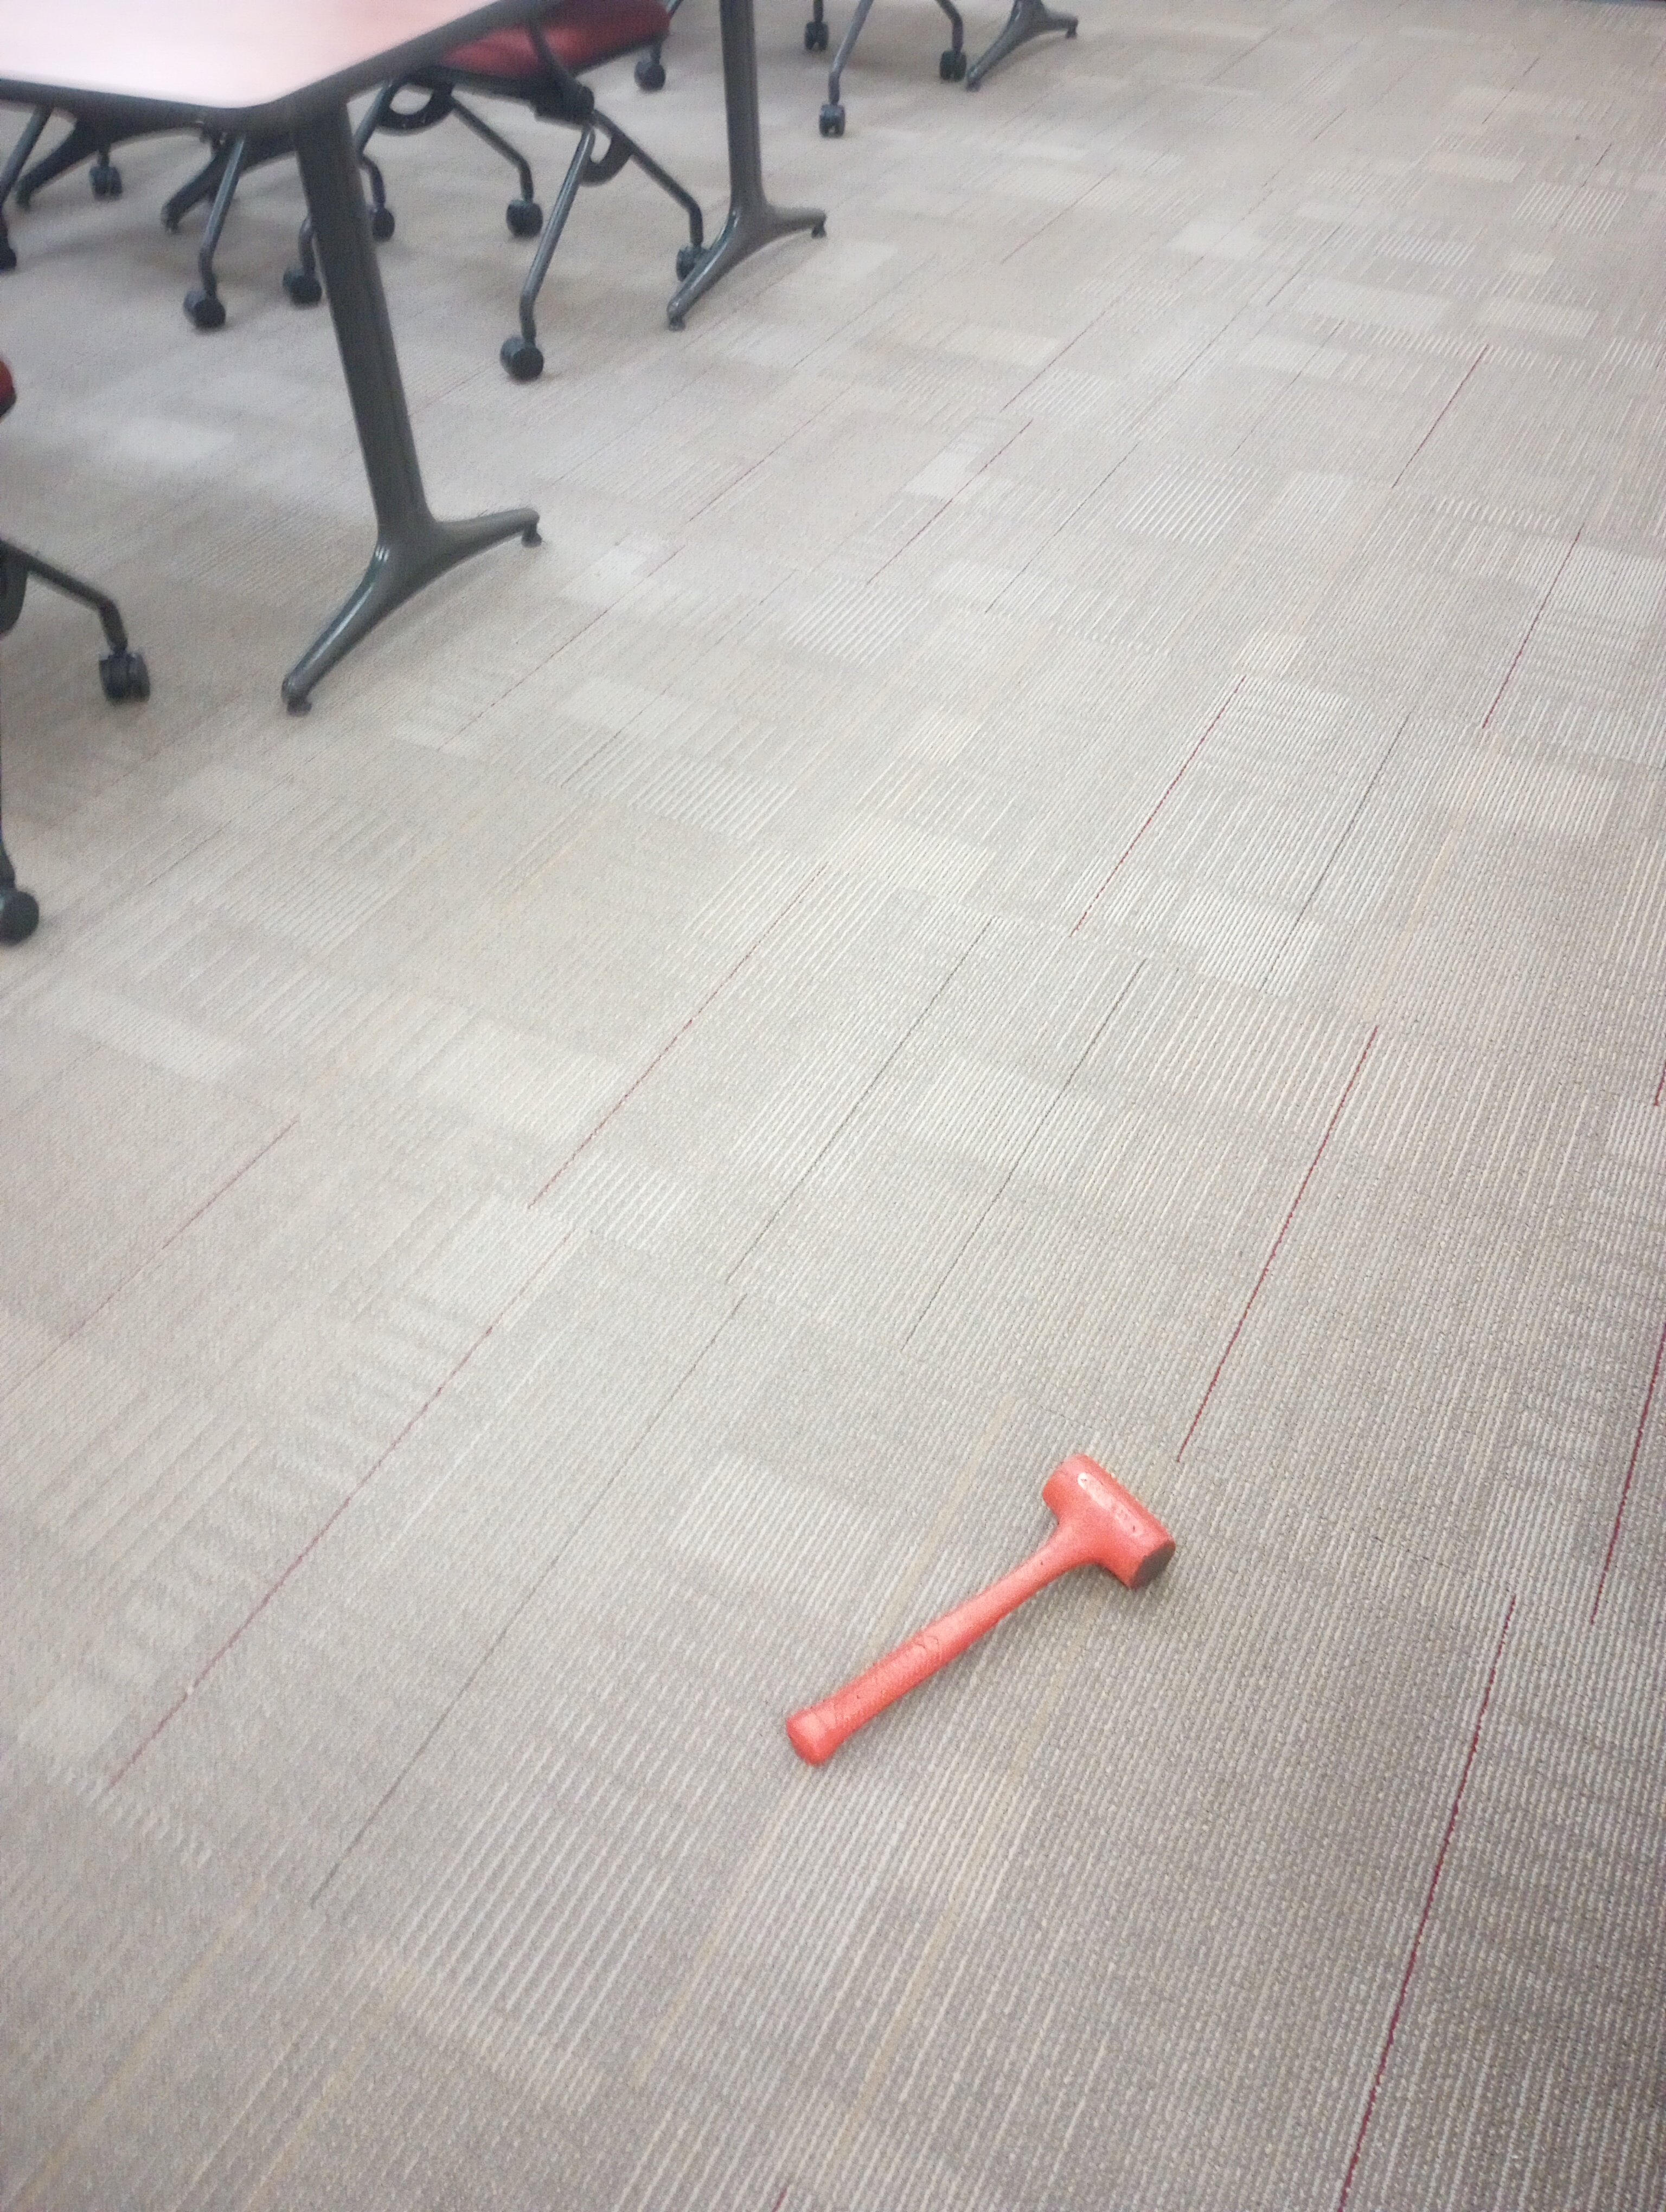bottle: (780, 1440, 1180, 1780)
